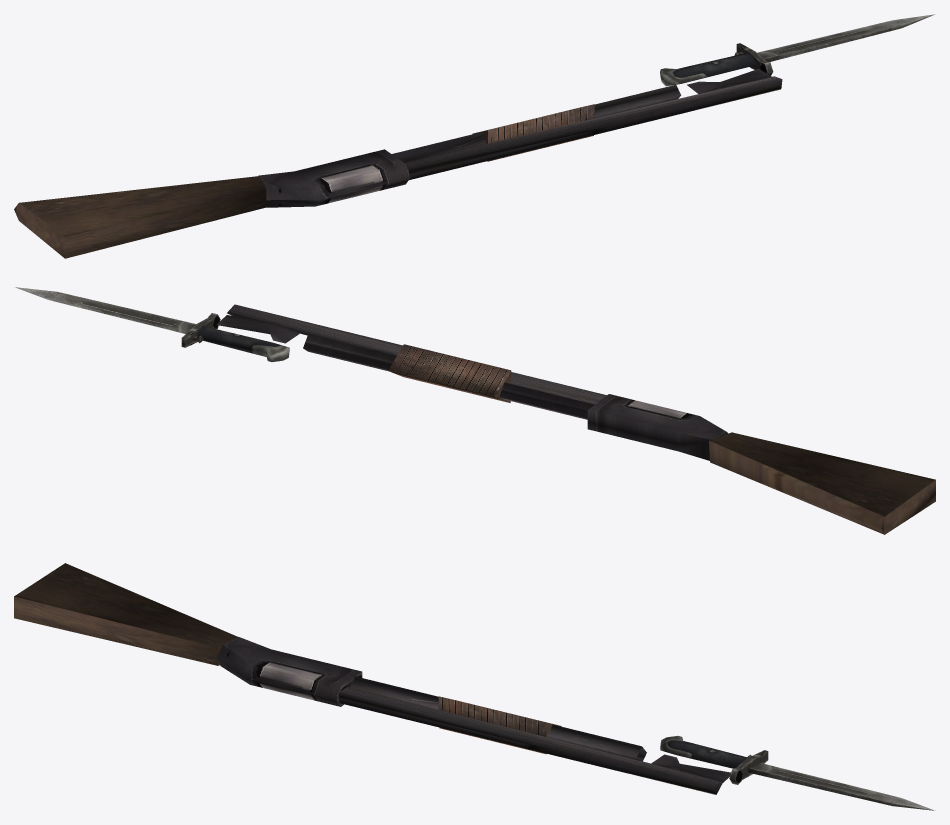
File: weapon_usa_trenchgun_bayonet_LOD21.obj
The picture shows the model from 3 angles, top to bottom: view 1: azimuth 30°, elevation 25°; view 2: azimuth 150°, elevation 25°; view 3: azimuth 330°, elevation 25°; orthographic projection.
Parts seen in each view (by area): view 1: TomGroup_0, TomGroup_1; view 2: TomGroup_0, TomGroup_1; view 3: TomGroup_0, TomGroup_1.
Boxes of the visible parts, left/top/right/bottom form: TomGroup_0: left=14, top=69, right=782, bottom=258; TomGroup_1: left=660, top=14, right=934, bottom=86; TomGroup_0: left=216, top=304, right=935, bottom=534; TomGroup_1: left=14, top=287, right=289, bottom=361; TomGroup_0: left=14, top=563, right=730, bottom=794; TomGroup_1: left=660, top=736, right=935, bottom=810.
Bounding box in the file's own units: 138 × 4.75 × 17.46.
2 materials, 2 textured.
